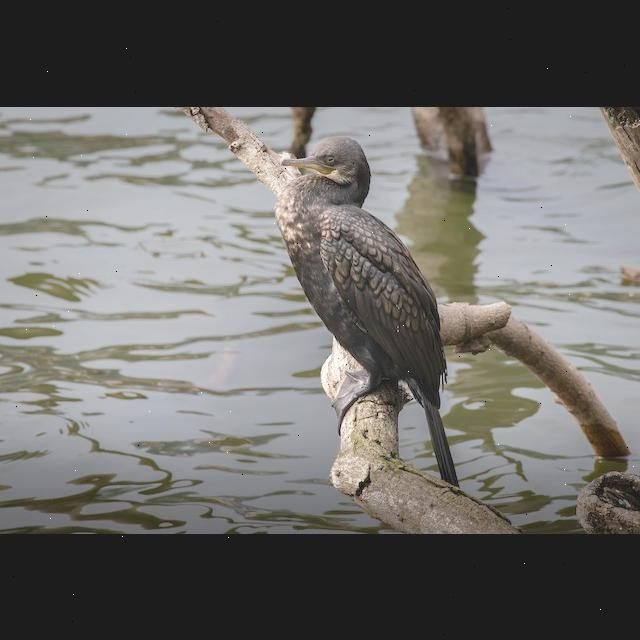cormorant: (274, 124, 480, 502)
